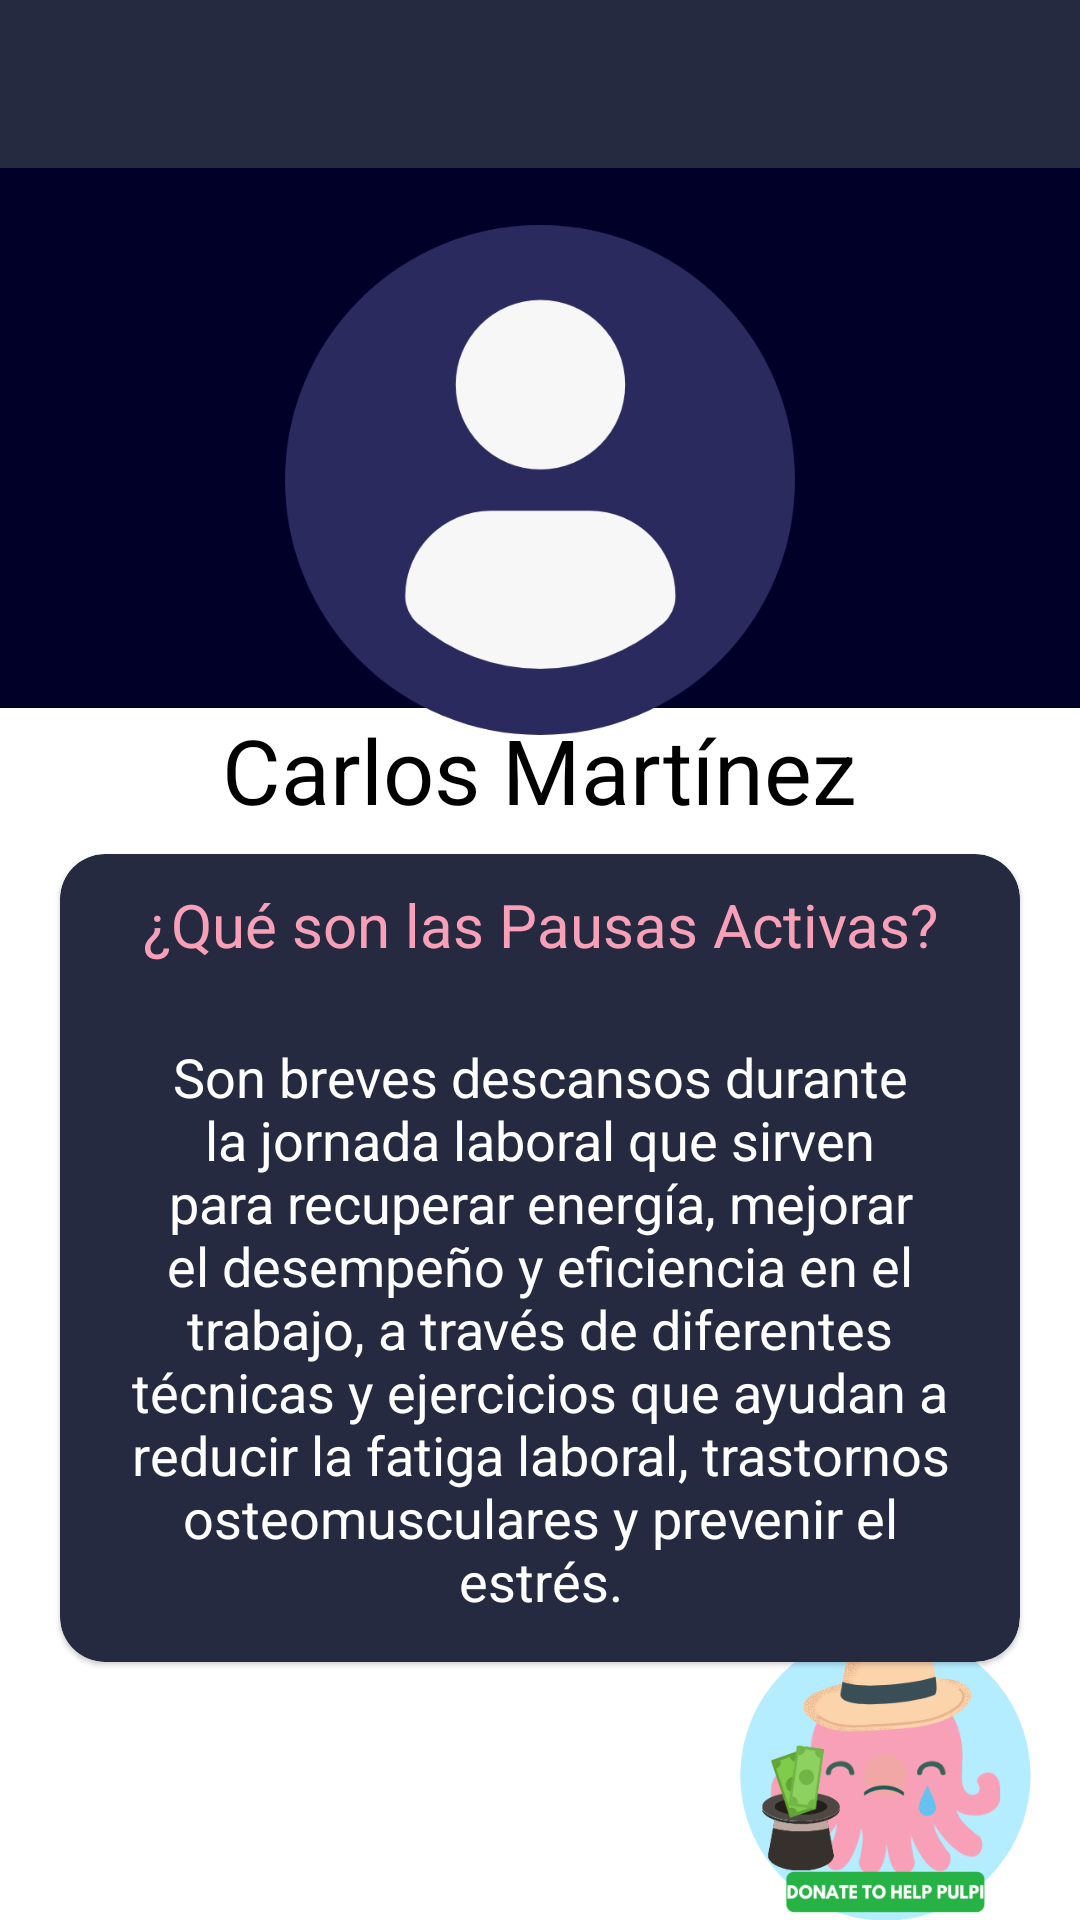

Locate icon controls on the screen. Image size 1080w x 1920h, boxes as rect(x1, y1, x2, y2).
pulpitriste: rect(735, 1626, 1031, 1920)
